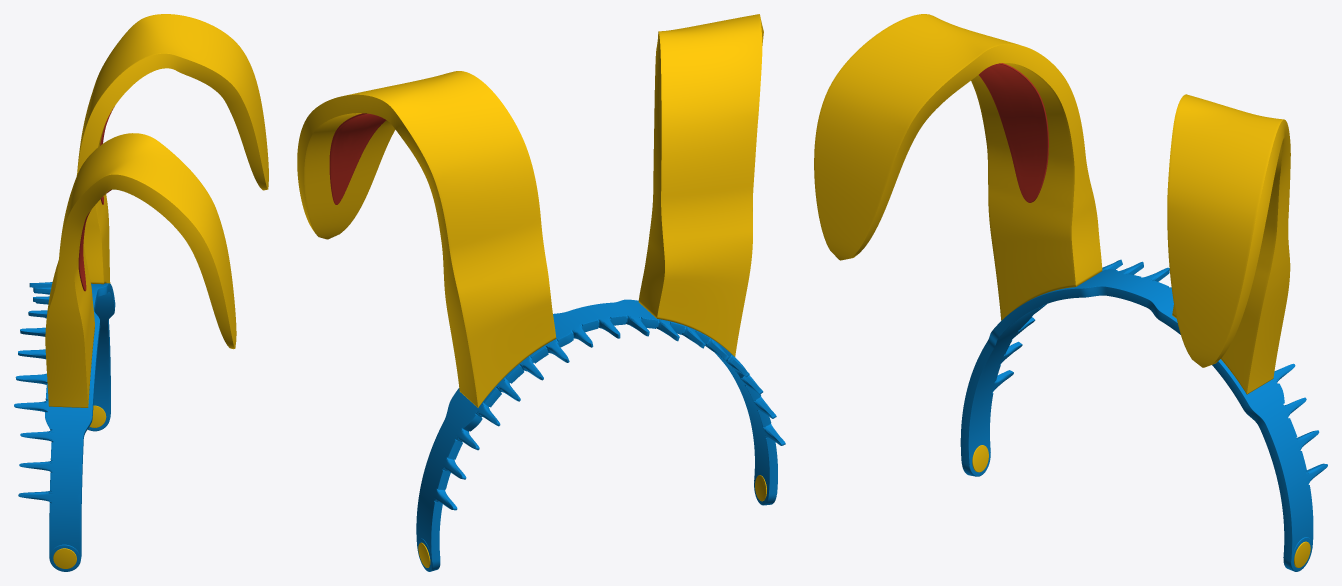
Rendered from lop-ear-headband.glb.
3 views of the same model, side by side, from view 1: azimuth 30°, elevation 25°; view 2: azimuth 150°, elevation 25°; view 3: azimuth 270°, elevation 25° (orthographic). The views are drawn at different scales.
Visible parts, largest first — view 1: lop-ear-headband-part-002, lop-ear-headband-part-004, lop-ear-headband-part-001, lop-ear-headband-part-003; view 2: lop-ear-headband-part-004, lop-ear-headband-part-002, lop-ear-headband-part-001, lop-ear-headband-part-005; view 3: lop-ear-headband-part-002, lop-ear-headband-part-004, lop-ear-headband-part-001, lop-ear-headband-part-003.
Part boxes in pixels (<box>): lop-ear-headband-part-002: <box>45,133,236,407</box>; lop-ear-headband-part-004: <box>76,14,268,284</box>; lop-ear-headband-part-001: <box>14,282,115,571</box>; lop-ear-headband-part-003: <box>78,189,111,291</box>; lop-ear-headband-part-004: <box>297,71,556,407</box>; lop-ear-headband-part-002: <box>638,14,763,356</box>; lop-ear-headband-part-001: <box>416,299,785,571</box>; lop-ear-headband-part-005: <box>329,113,386,204</box>; lop-ear-headband-part-002: <box>814,14,1102,320</box>; lop-ear-headband-part-004: <box>1167,94,1290,394</box>; lop-ear-headband-part-001: <box>960,259,1327,571</box>; lop-ear-headband-part-003: <box>979,63,1048,202</box>.
Bounding box in the file's own units: 2.63 × 3 × 2.92.
